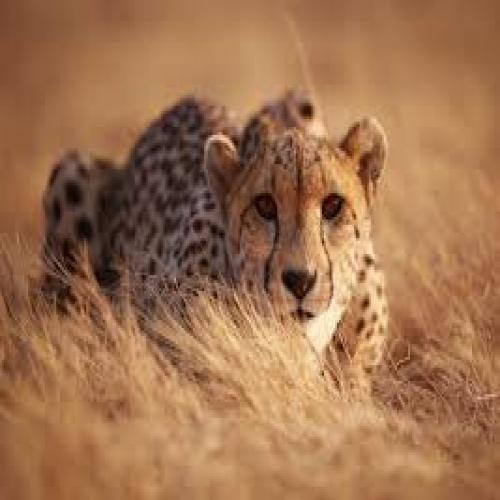cheetah-endangered: (39, 93, 388, 394)
